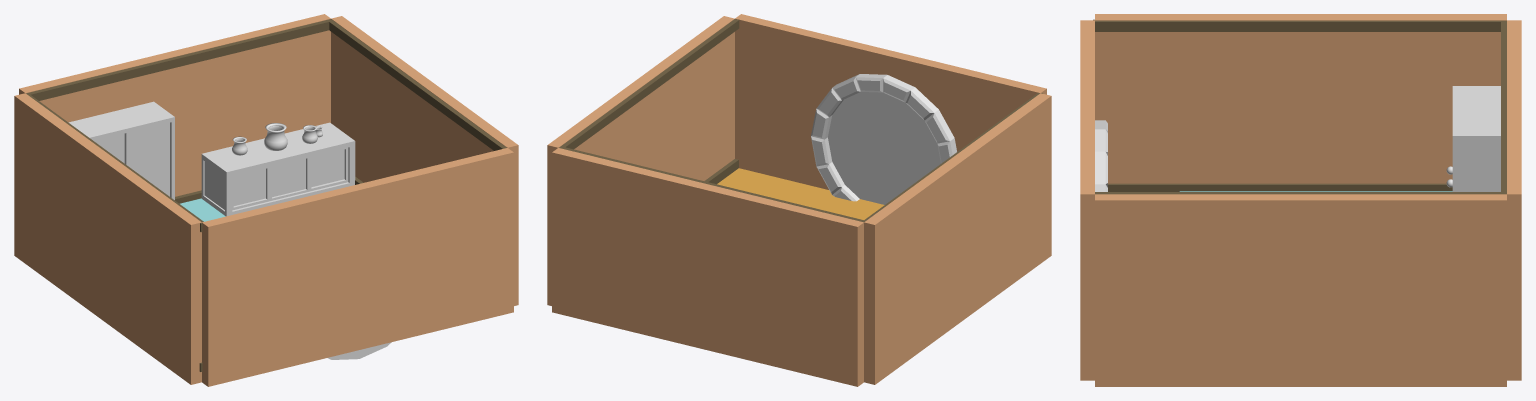
Rendered from House.fbx.
3 views of the same model, side by side, from view 1: azimuth 30°, elevation 25°; view 2: azimuth 150°, elevation 25°; view 3: azimuth 270°, elevation 25° (orthographic). The views are drawn at different scales.
Parts seen in each view (by area): view 1: Cube.036, Cube.038, Cube.035, Cube.037, Cube.052, Cube.053, Cube.041, Cube.042, Circle, Plane, Cube.057; view 2: Cube.035, Cube.038, Cube.036, Cube.037, Cylinder.010, Cube.034, Cube.042, Cube.041, Cube.057; view 3: Cube.037, Cube.038, Cube.035, Cube.036, Cube.053, Cube.057, Cube.055, Cube.042, Cube.041, Cylinder.010.
Part boxes in pixels (bbox=[...]): Cube.036: bbox=[202, 148, 513, 386]; Cube.038: bbox=[14, 93, 201, 384]; Cube.035: bbox=[19, 14, 330, 196]; Cube.037: bbox=[331, 16, 518, 305]; Cube.052: bbox=[201, 122, 355, 216]; Cube.053: bbox=[68, 101, 174, 199]; Cube.041: bbox=[26, 19, 332, 100]; Cube.042: bbox=[328, 19, 506, 150]; Circle: bbox=[264, 123, 287, 150]; Plane: bbox=[180, 198, 225, 221]; Cube.057: bbox=[27, 94, 203, 232]; Cube.035: bbox=[552, 148, 863, 386]; Cube.038: bbox=[864, 93, 1051, 384]; Cube.036: bbox=[735, 14, 1046, 189]; Cube.037: bbox=[547, 16, 734, 305]; Cylinder.010: bbox=[811, 74, 956, 204]; Cube.034: bbox=[717, 168, 884, 219]; Cube.042: bbox=[561, 19, 739, 149]; Cube.041: bbox=[559, 146, 865, 222]; Cube.057: bbox=[864, 93, 1042, 220]; Cube.037: bbox=[1095, 194, 1506, 386]; Cube.038: bbox=[1095, 14, 1506, 183]; Cube.035: bbox=[1507, 20, 1521, 380]; Cube.036: bbox=[1080, 20, 1094, 380]; Cube.053: bbox=[1452, 86, 1500, 191]; Cube.057: bbox=[1093, 19, 1504, 31]; Cube.055: bbox=[1108, 183, 1452, 191]; Cube.042: bbox=[1095, 192, 1500, 194]; Cube.041: bbox=[1501, 20, 1506, 194]; Cylinder.010: bbox=[1095, 120, 1107, 191].
Bounding box in the file's own units: 1500 × 746 × 1500.
